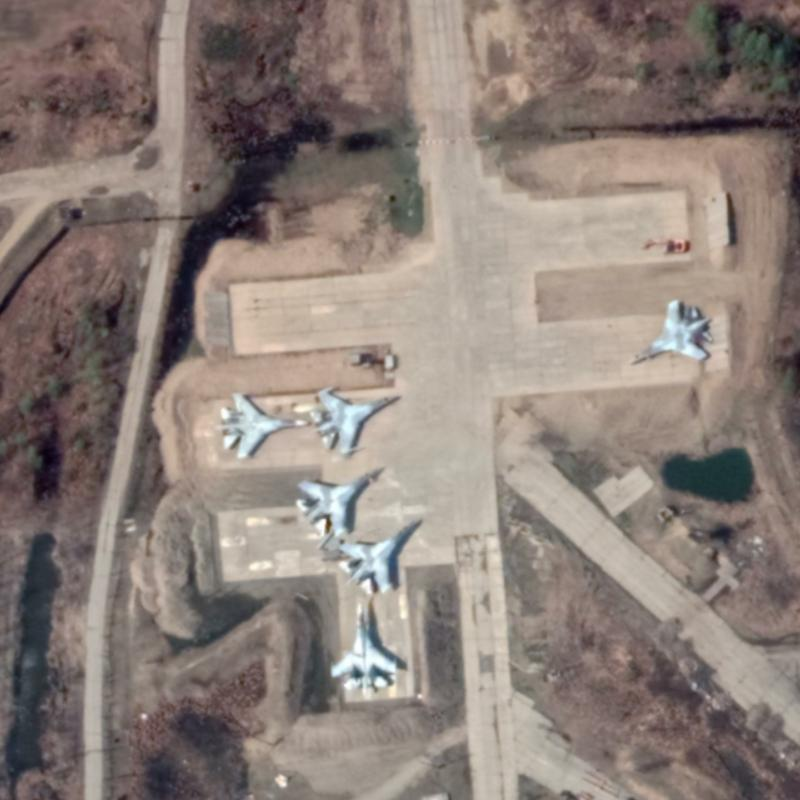A1: (334, 515, 427, 599), (326, 593, 399, 698), (309, 383, 403, 459), (212, 390, 310, 462), (291, 462, 381, 539), (624, 296, 715, 368)
